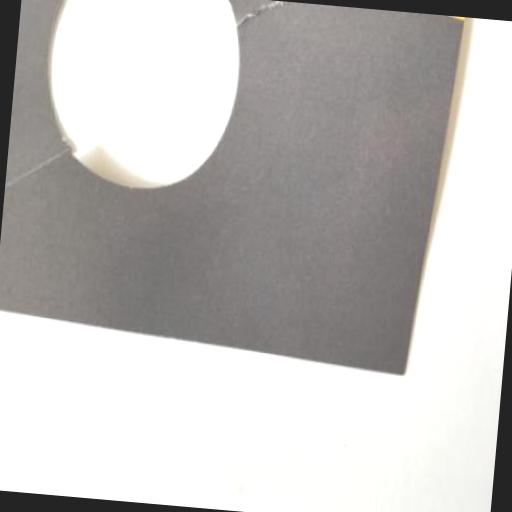paper: (0, 0, 463, 377)
